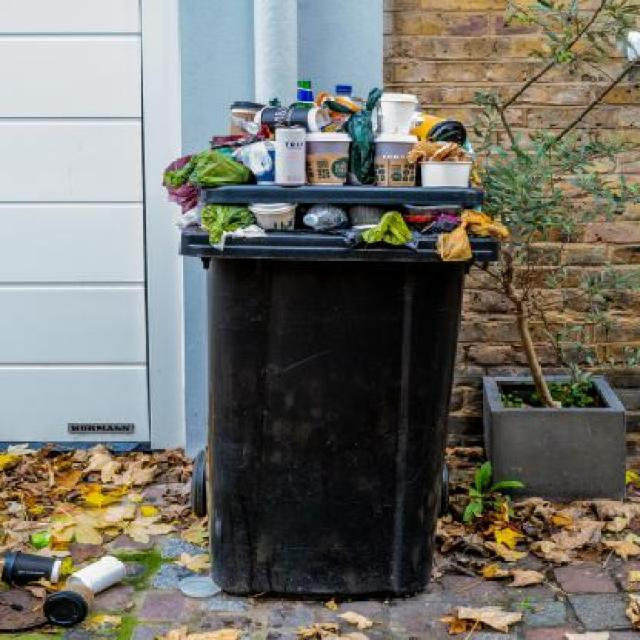garbage container: (168, 219, 517, 616)
